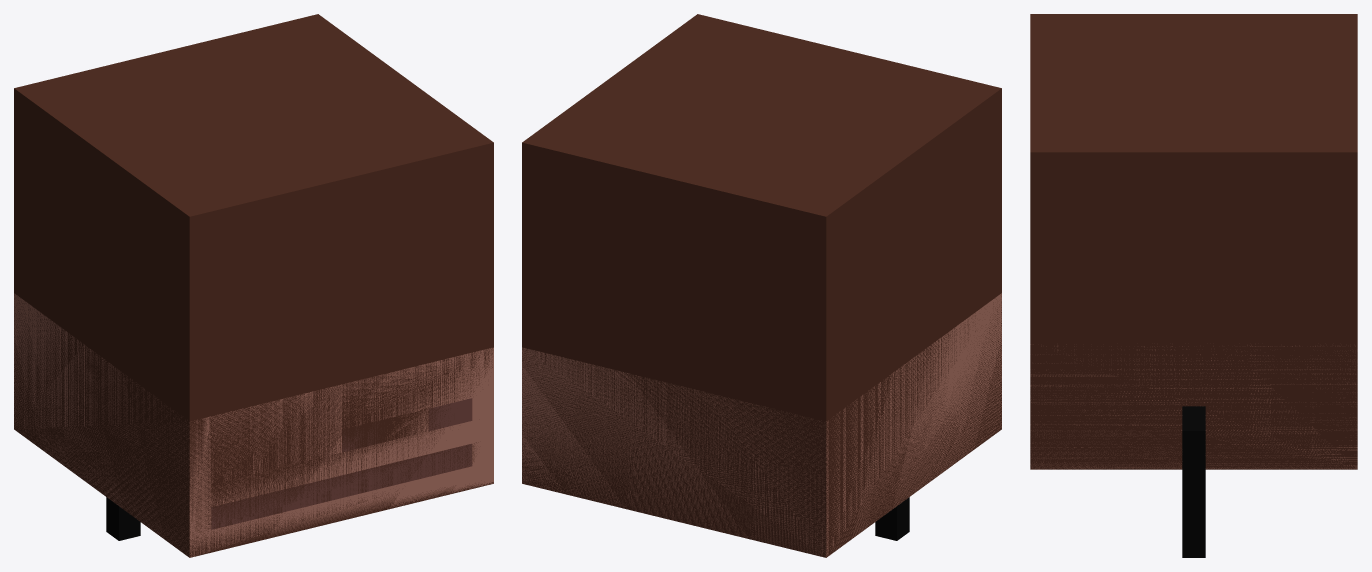
Rendered from moose.glb.
3 views of the same model, side by side, from view 1: azimuth 30°, elevation 25°; view 2: azimuth 150°, elevation 25°; view 3: azimuth 270°, elevation 25° (orthographic). The views are drawn at different scales.
Parts seen in each view (by area): view 1: Moose, nose, l2, monture; view 2: Moose, nose, monture; view 3: Moose, nose, monture.
Boxes of the visible parts, x1,y1,x2,y2 form: Moose: (14, 14, 493, 557); nose: (14, 293, 493, 557); l2: (211, 398, 472, 529); monture: (106, 497, 140, 540); Moose: (522, 14, 1001, 557); nose: (522, 293, 1001, 557); monture: (875, 497, 909, 540); Moose: (1030, 14, 1357, 469); nose: (1030, 344, 1357, 469); monture: (1182, 406, 1205, 557).
Bounding box in the file's own units: 16.5 × 18 × 14.
Materials: 7 (7 with a texture image).
